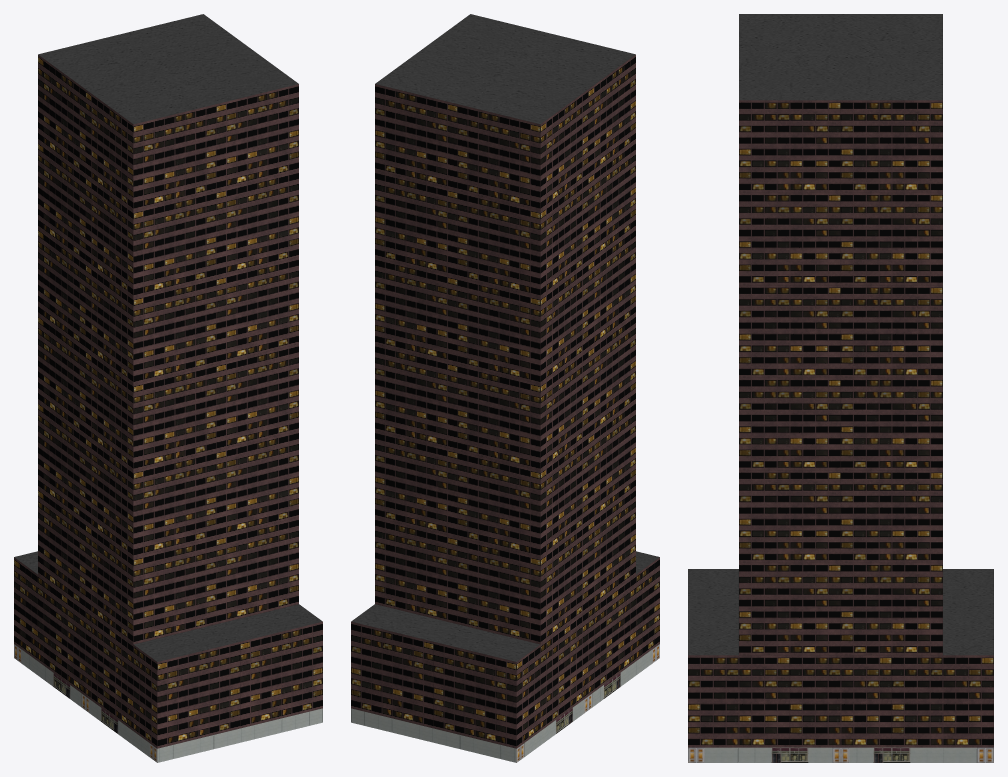
File: Building011.fbx
3 renders of one model, left to right at view 1: azimuth 30°, elevation 25°; view 2: azimuth 150°, elevation 25°; view 3: azimuth 270°, elevation 25°, orthographic. The views are drawn at different scales.
Visible parts, largest first — view 1: Building011; view 2: Building011; view 3: Building011.
Boxes of the visible parts, box(x1,y1,x2,y2) form: Building011: box(14, 14, 322, 762); Building011: box(351, 14, 659, 762); Building011: box(688, 14, 993, 762).
Size of the model in its own units: 31.5 by 113 by 47.24.
